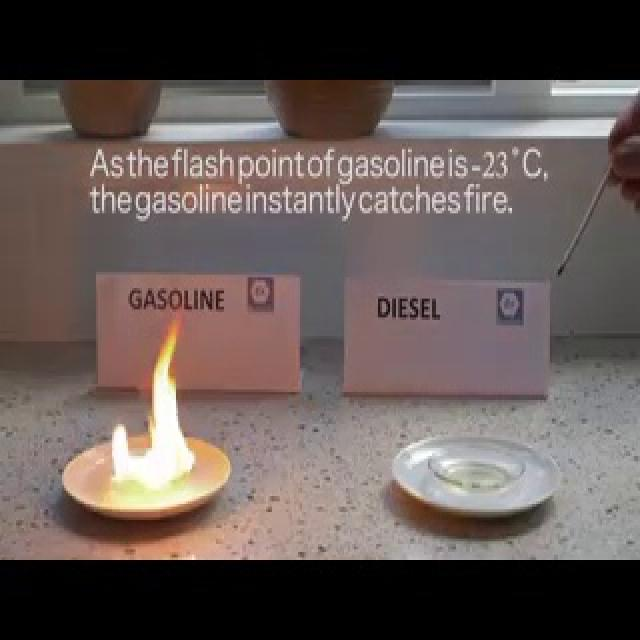fire: (106, 309, 201, 496)
